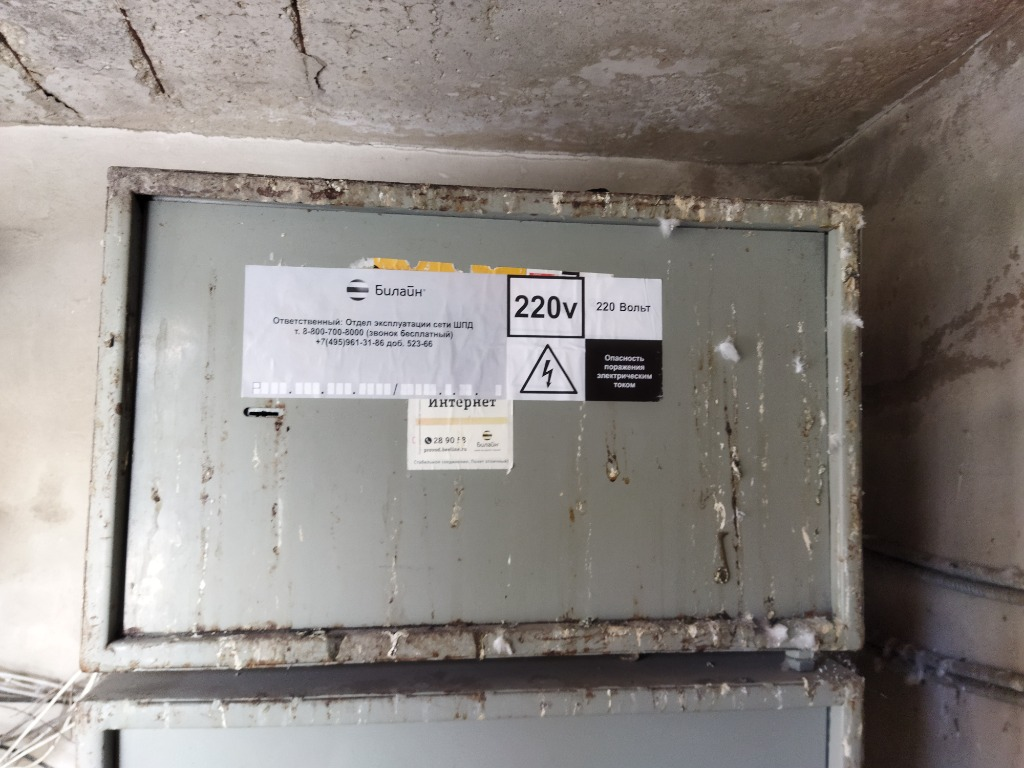e2-6u: (70, 163, 875, 681)
